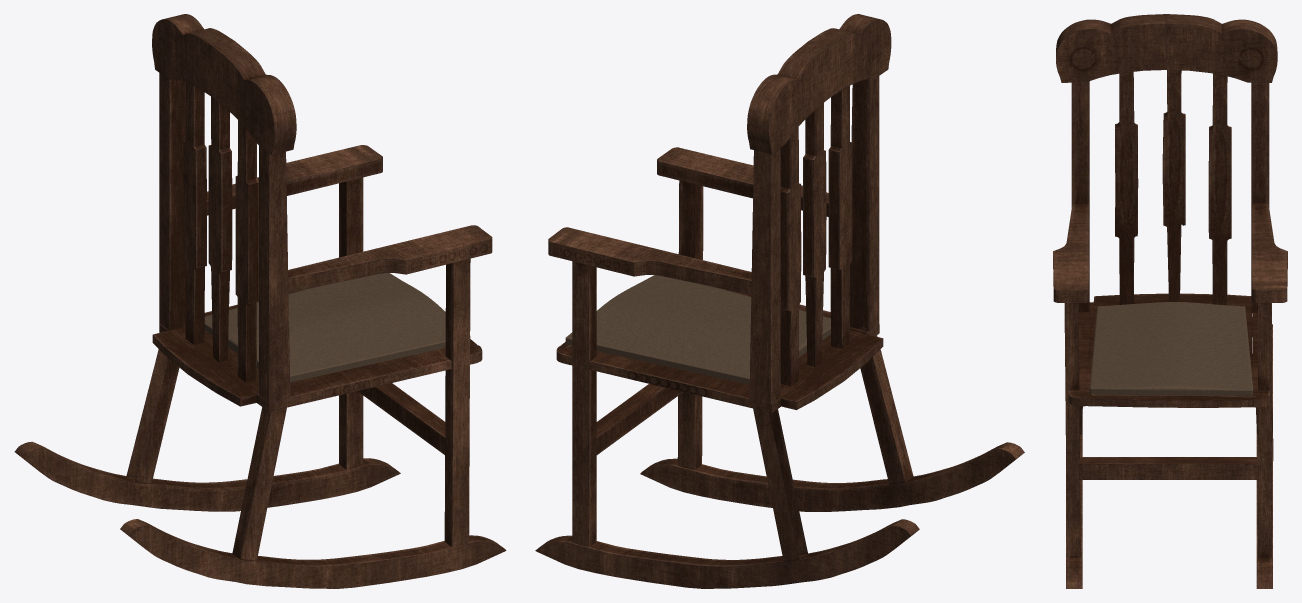
3 views of the same model, side by side, from view 1: azimuth 30°, elevation 25°; view 2: azimuth 150°, elevation 25°; view 3: azimuth 270°, elevation 25° (orthographic). The views are drawn at different scales.
Parts seen in each view (by area): view 1: pCube2, polySurface20, polySurface21, polySurface29, polySurface32, polySurface19, polySurface18, polySurface33, polySurface30, polySurface85, polySurface17, polySurface27 (+7 smaller); view 2: pCube2, polySurface21, polySurface20, polySurface19, polySurface29, polySurface24, polySurface28, polySurface16, polySurface17, polySurface85, polySurface30, polySurface27 (+7 smaller); view 3: pCube2, polySurface28, polySurface18, polySurface30, polySurface17, polySurface85, polySurface23, polySurface27, polySurface32, polySurface24, polySurface16, polySurface33 (+6 smaller).
Part boxes in pixels (x1,y1,x2,y2): pCube2: (204,273,470,382); polySurface20: (120,519,506,588); polySurface21: (14,441,400,511); polySurface29: (259,145,290,402); polySurface32: (444,258,470,547); polySurface19: (159,73,185,330); polySurface18: (213,41,296,154); polySurface33: (288,225,492,292); polySurface30: (183,82,206,344); polySurface85: (208,96,232,362); polySurface17: (235,120,258,382); polySurface27: (152,327,477,406); pCube2: (565,275,830,384); polySurface21: (535,519,919,588); polySurface20: (640,442,1024,511); polySurface19: (749,148,780,405); polySurface29: (849,76,879,331); polySurface24: (572,261,596,547); polySurface28: (747,41,830,154); polySurface16: (548,227,751,294); polySurface17: (828,86,852,348); polySurface85: (803,103,826,366); polySurface30: (780,127,801,386); polySurface27: (561,330,883,409); pCube2: (1089,302,1253,395); polySurface28: (1166,14,1277,82); polySurface18: (1056,14,1166,82); polySurface30: (1208,73,1231,305); polySurface17: (1115,72,1138,304); polySurface85: (1162,70,1185,301); polySurface23: (1080,457,1257,479); polySurface27: (1085,293,1252,407); polySurface32: (1064,303,1080,557); polySurface24: (1258,303,1271,557); polySurface16: (1252,203,1287,303); polySurface33: (1053,204,1088,303).
Size of the model in its own units: 3.86 by 5.17 by 2.31.
Materials: 1 (1 with a texture image).
